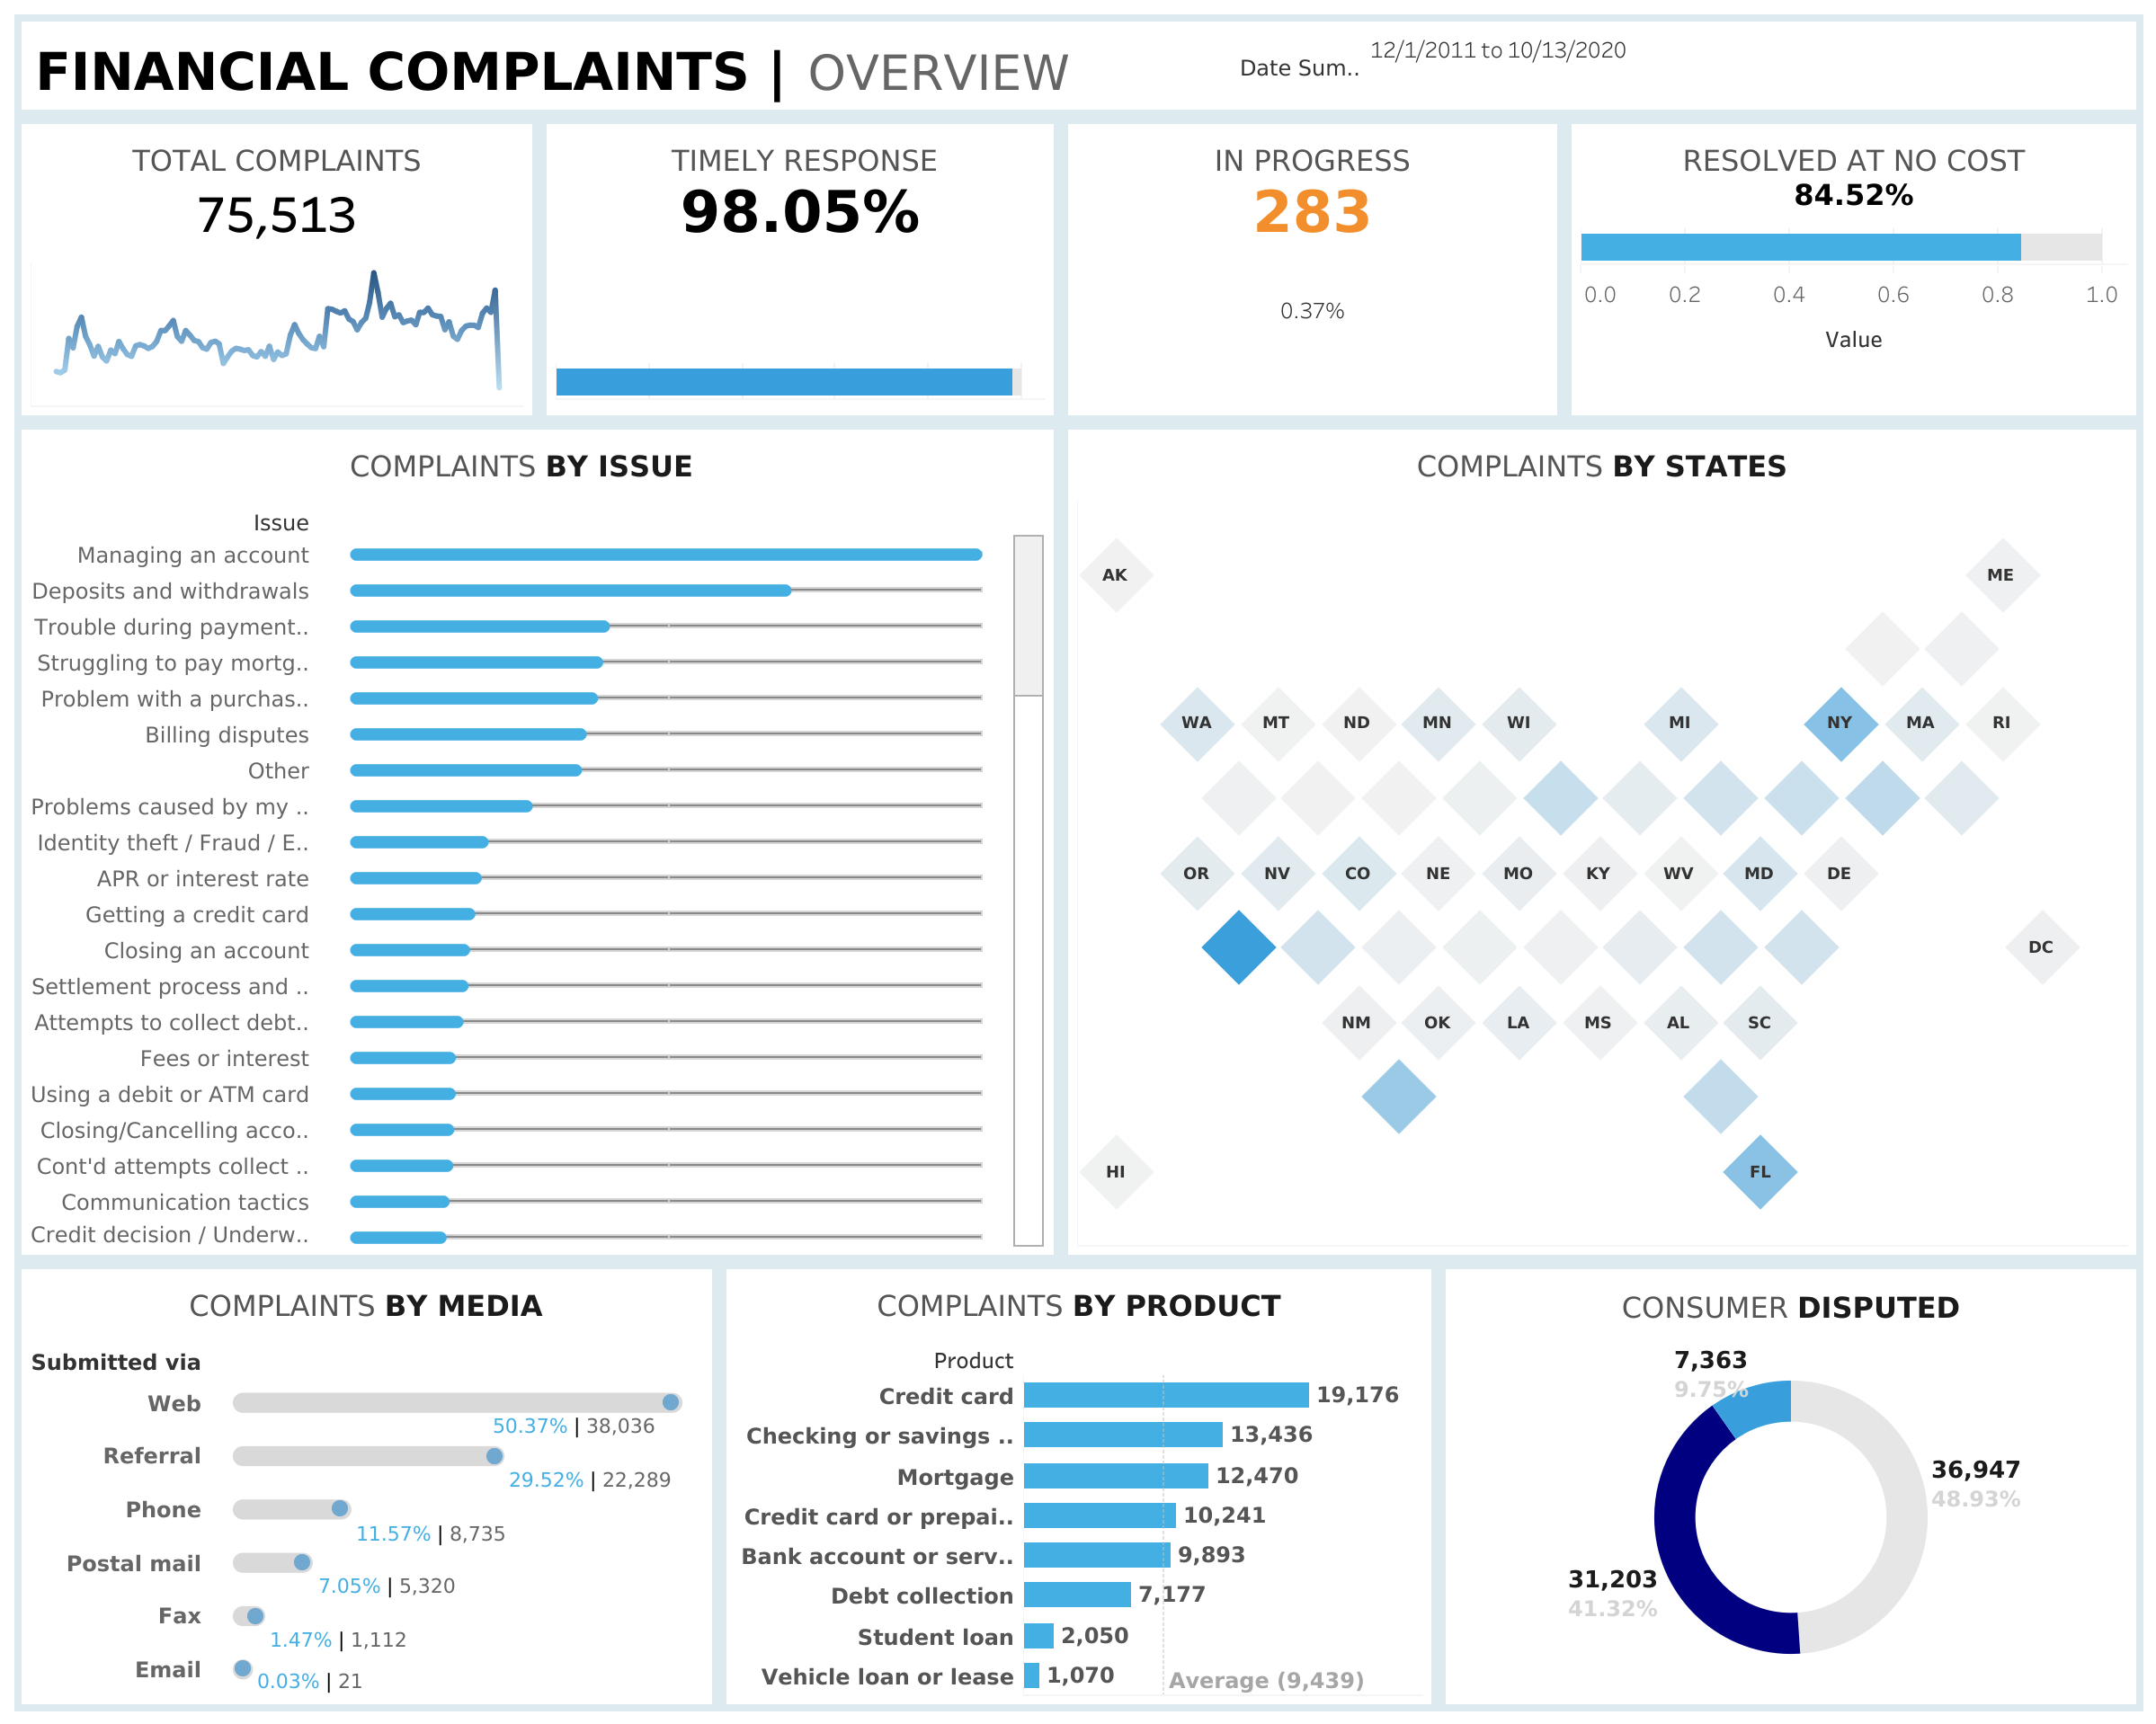

What the dashboard file says about the page in this screenshot:
{"tool":"tableau","page":{"name":"Financial Complaints Overview Dashboard","canvas":[1200,960],"ordinal":0},"visuals":[{"type":"text","box":[8,8,1184,56.8]},{"type":"filter","title":"Complaints By Issue","param":"[federated.07e10081fqplsw1co1a3b1syfjxz].[none:Date Sumbited:qk]","box":[684,14.5,502,44.6]},{"type":"worksheet","title":"Total Complaints","mark":"Automatic","rows":["Financial Consumer Complaints.csv_DE3F8BFBEC2E4E309DD1D75039"],"cols":["Date Sumbited"],"box":[8,64.8,292,169.8]},{"type":"worksheet","title":"Timely Response","mark":"Bar","box":[300,64.8,290,169.8]},{"type":"worksheet","title":"In Progress","mark":"Automatic","box":[590,64.8,280,169.8]},{"type":"worksheet","title":"Resolved At No Cost","mark":"Bar","box":[870,64.8,322,169.8]},{"type":"worksheet","title":"Complaints By Issue","mark":"Automatic","rows":["Issue"],"cols":["Calculation_768074848995127309"],"box":[8,234.6,582,467.9]},{"type":"worksheet","title":"Complaints by States","mark":"Automatic","rows":["Row"],"cols":["Column"],"box":[590,234.6,602,467.9]},{"type":"worksheet","title":"Complaints By Media","mark":"Automatic","rows":["Submitted via"],"cols":["Financial Consumer Complaints.csv_DE3F8BFBEC2E4E309DD1D75039"],"box":[8,702.4,392,249.6]},{"type":"worksheet","title":"Complaints By Product","mark":"Automatic","rows":["Product"],"cols":["Financial Consumer Complaints.csv_DE3F8BFBEC2E4E309DD1D75039"],"box":[400,702.4,400,249.6]},{"type":"worksheet","title":"Dispute","mark":"Pie","rows":["Calculation_768074848762380291","Calculation_768074848762400773"],"box":[800,702.4,392,249.6]}]}

Visuals, with their boxes in screenshot pixels (x1, y1, x2, y2), scaled from the page's 1200x960 canvas onto the 2156x1724 screenshot:
text: box=[14, 14, 2142, 116]
"Complaints By Issue" filter: box=[1229, 26, 2131, 106]
"Total Complaints" worksheet: box=[14, 116, 539, 422]
"Timely Response" worksheet (Bar marks): box=[539, 116, 1060, 422]
"In Progress" worksheet: box=[1060, 116, 1564, 422]
"Resolved At No Cost" worksheet (Bar marks): box=[1564, 116, 2142, 422]
"Complaints By Issue" worksheet: box=[14, 422, 1060, 1262]
"Complaints by States" worksheet: box=[1060, 422, 2142, 1262]
"Complaints By Media" worksheet: box=[14, 1261, 718, 1710]
"Complaints By Product" worksheet: box=[718, 1261, 1438, 1710]
"Dispute" worksheet (Pie marks): box=[1438, 1261, 2142, 1710]
